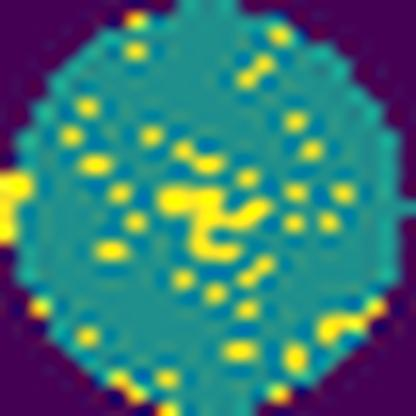Center: (152, 181, 275, 268)
